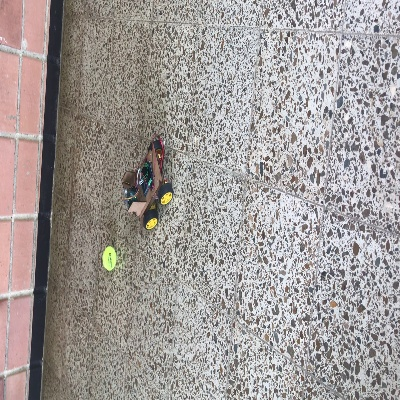Ball: (102, 247, 116, 270)
Robot: (122, 140, 173, 229)
